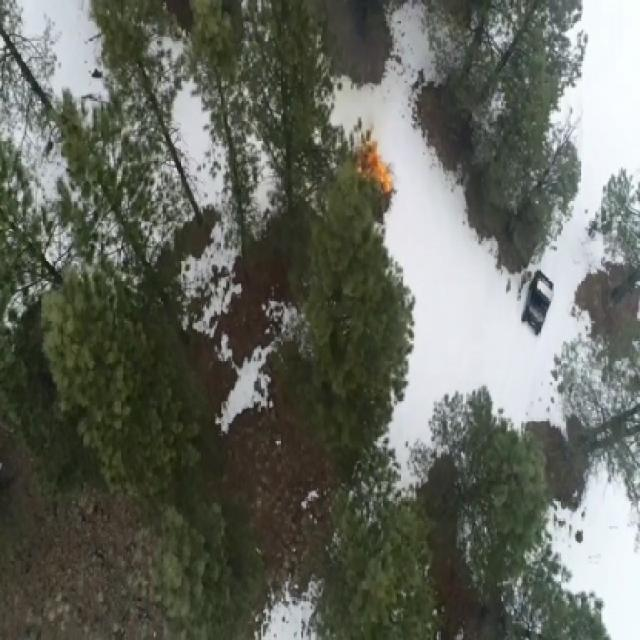Fire: (354, 137, 394, 194)
